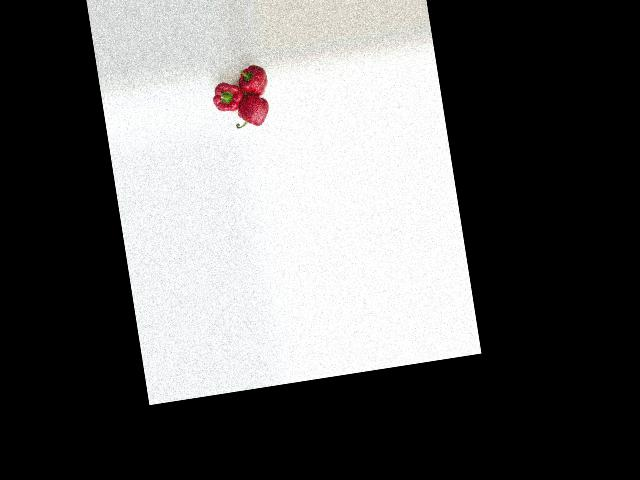bell_pepper: (230, 94, 274, 136)
